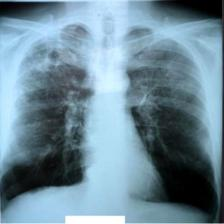tuberculosis: (2, 18, 222, 224)
